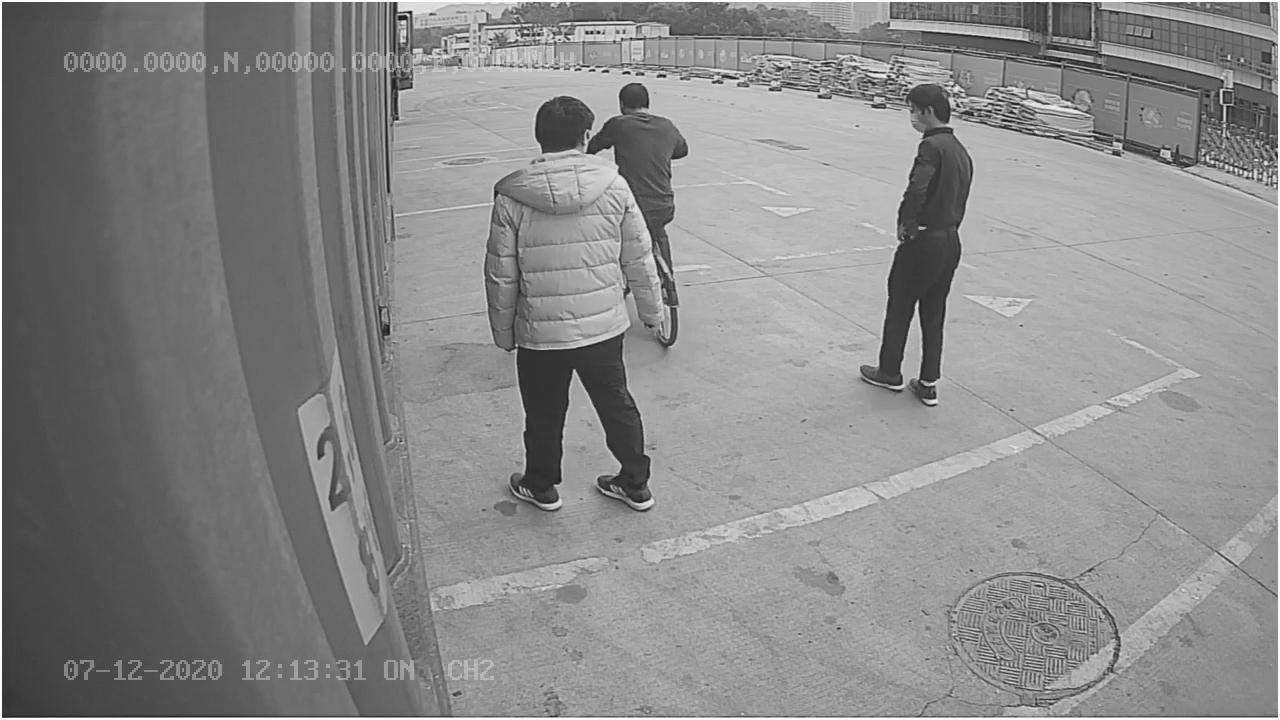person: (860, 78, 976, 407)
